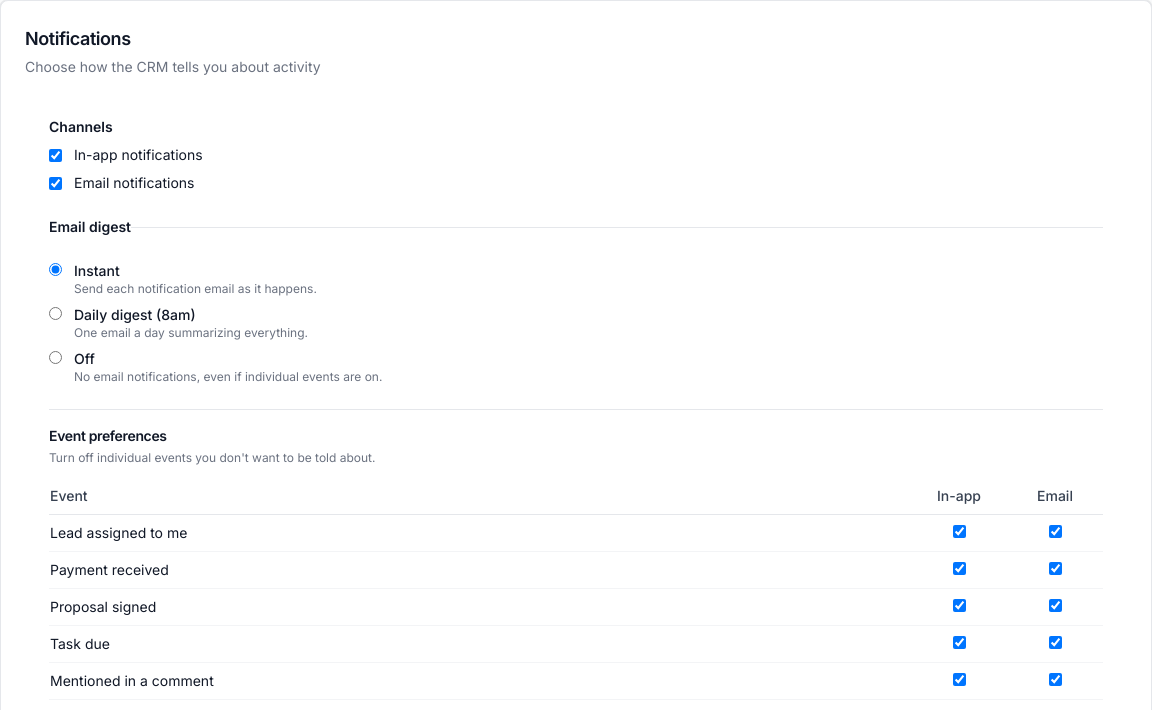
Scenario: NotificationPreferencesSection › hides email digest options when email is off
Expected: the text "Email digest" is shown, top-left (49, 217), bottom-right (131, 237)
Click the checkbox labelled "Email notifications": (56, 183) top-left (49, 176), bottom-right (62, 190)
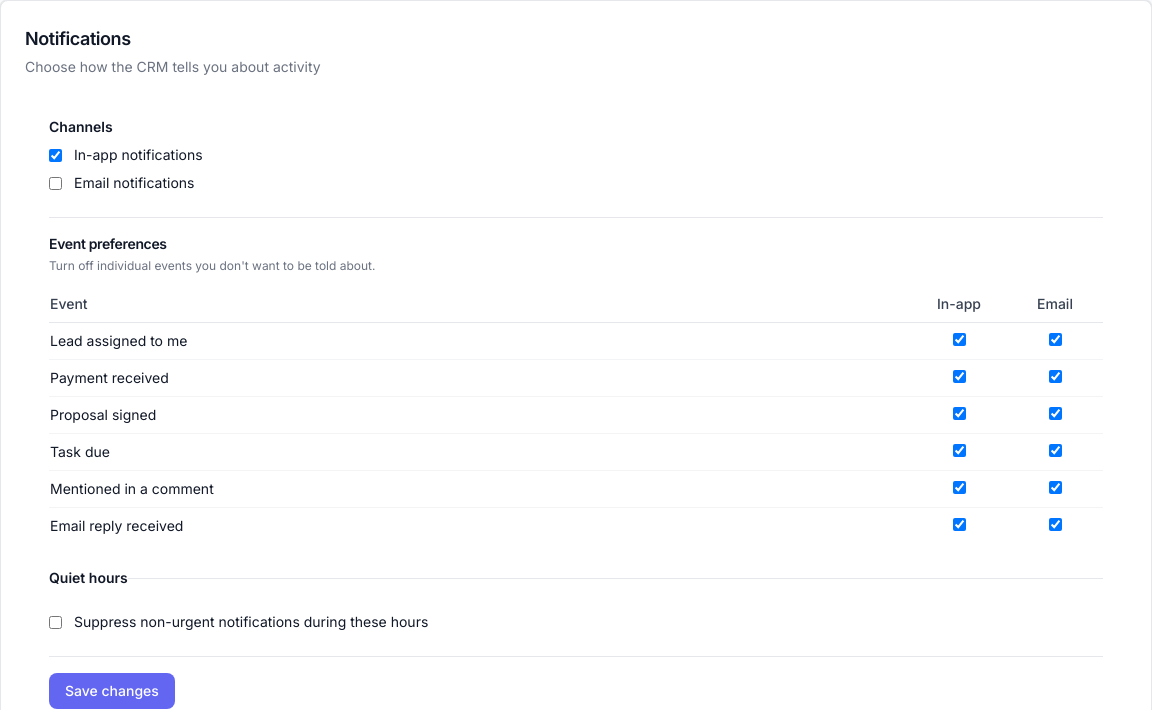
Now the text "Email digest" is gone
